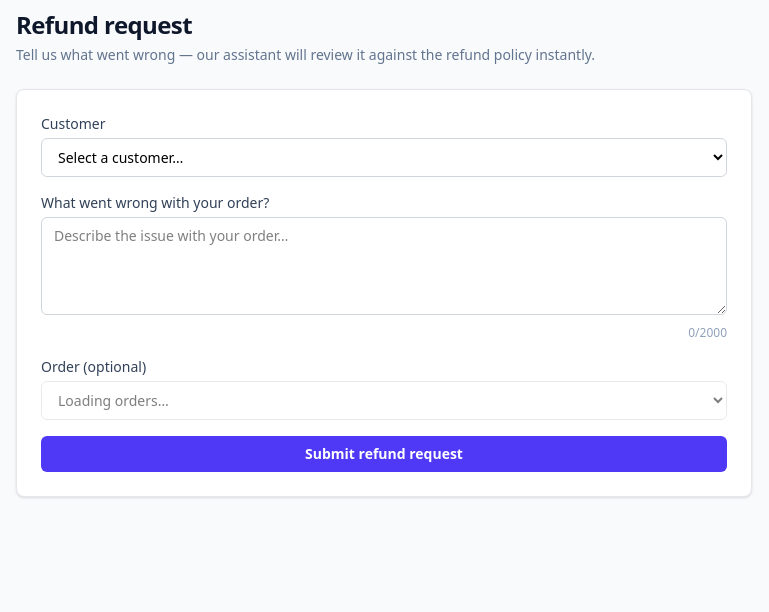
CustomerChat › shows a submit banner on 500, preserves the text, and renders no card
The image size is (769, 612).
Select "Alice Brown (alice@example.com)" in the dropdown labelled "Customer" at x=384, y=158, box [41,138,727,177]
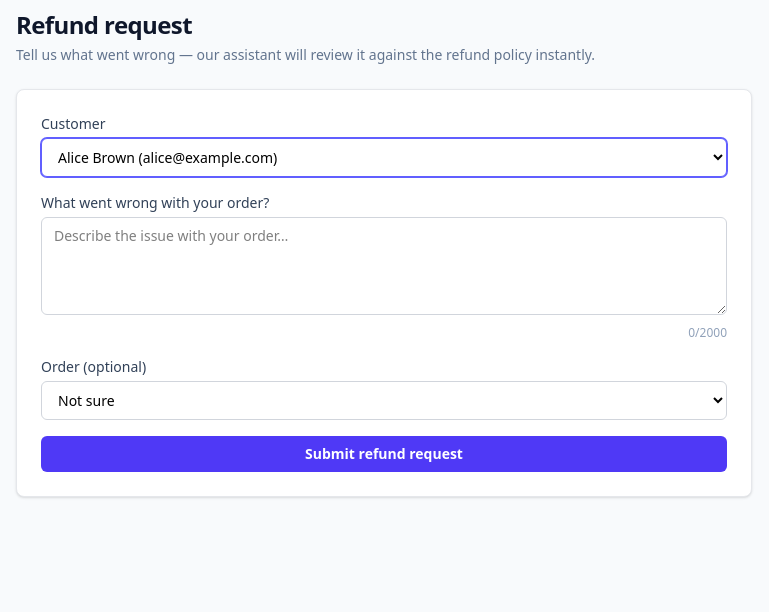
Type "My order is broken" into the text box labelled "What went wrong with your order?" at x=384, y=266, box [41,217,727,315]
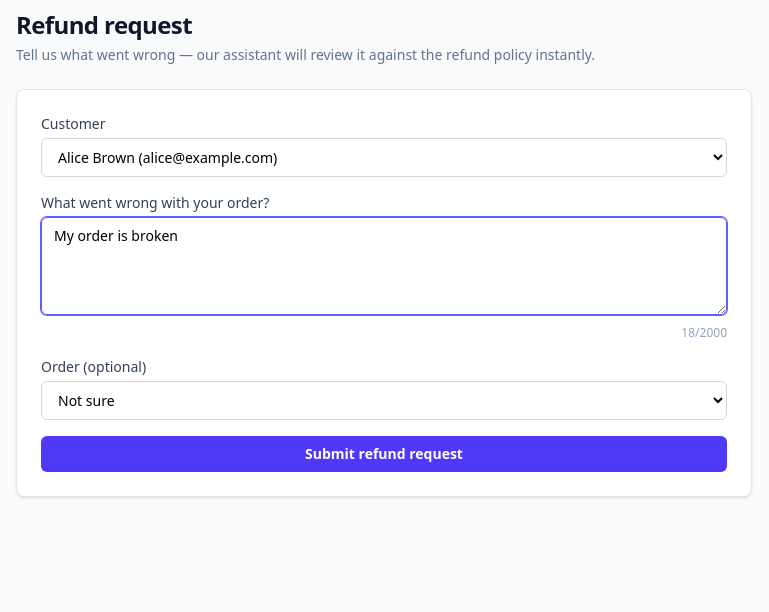
Click the button "Submit refund request" at x=384, y=454, box [41,436,727,472]
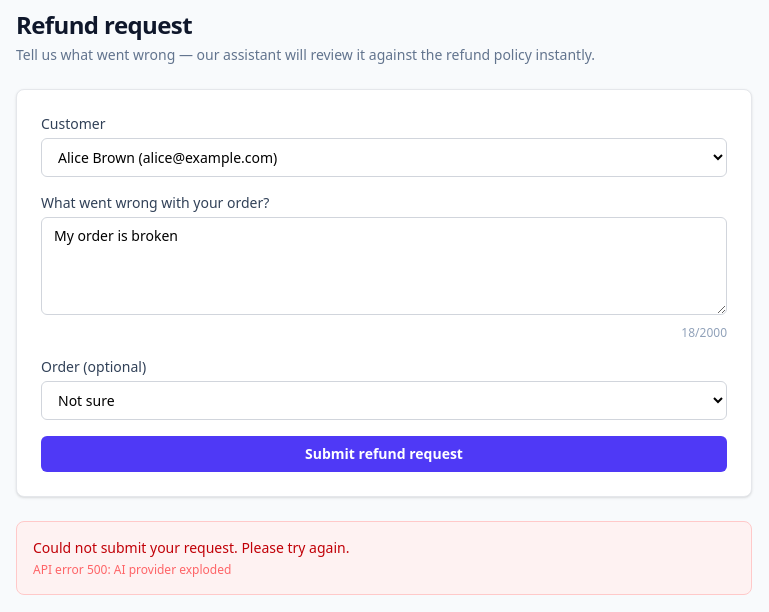
Check: the message shows "Could not submit your request. Please try again.", box [33,538,349,557]
Check: the message shows "API error 500: AI provider exploded", box [33,561,231,578]
